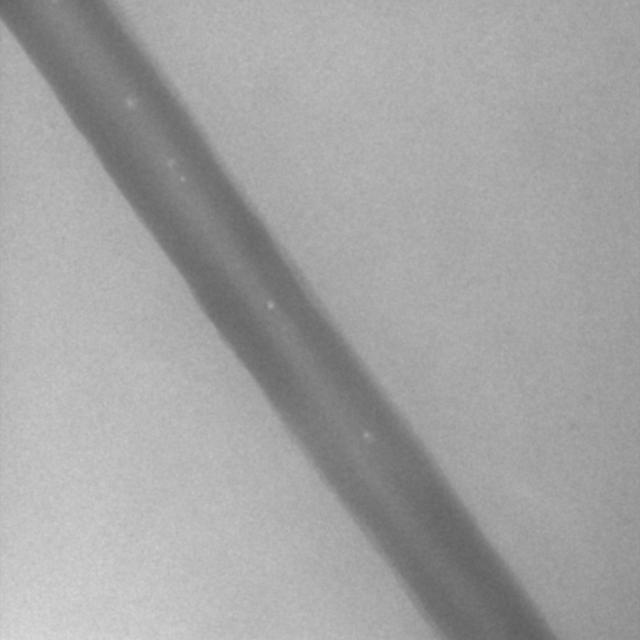air-hole: (123, 96, 138, 113), (266, 300, 278, 311), (176, 177, 188, 186), (166, 156, 177, 165)
